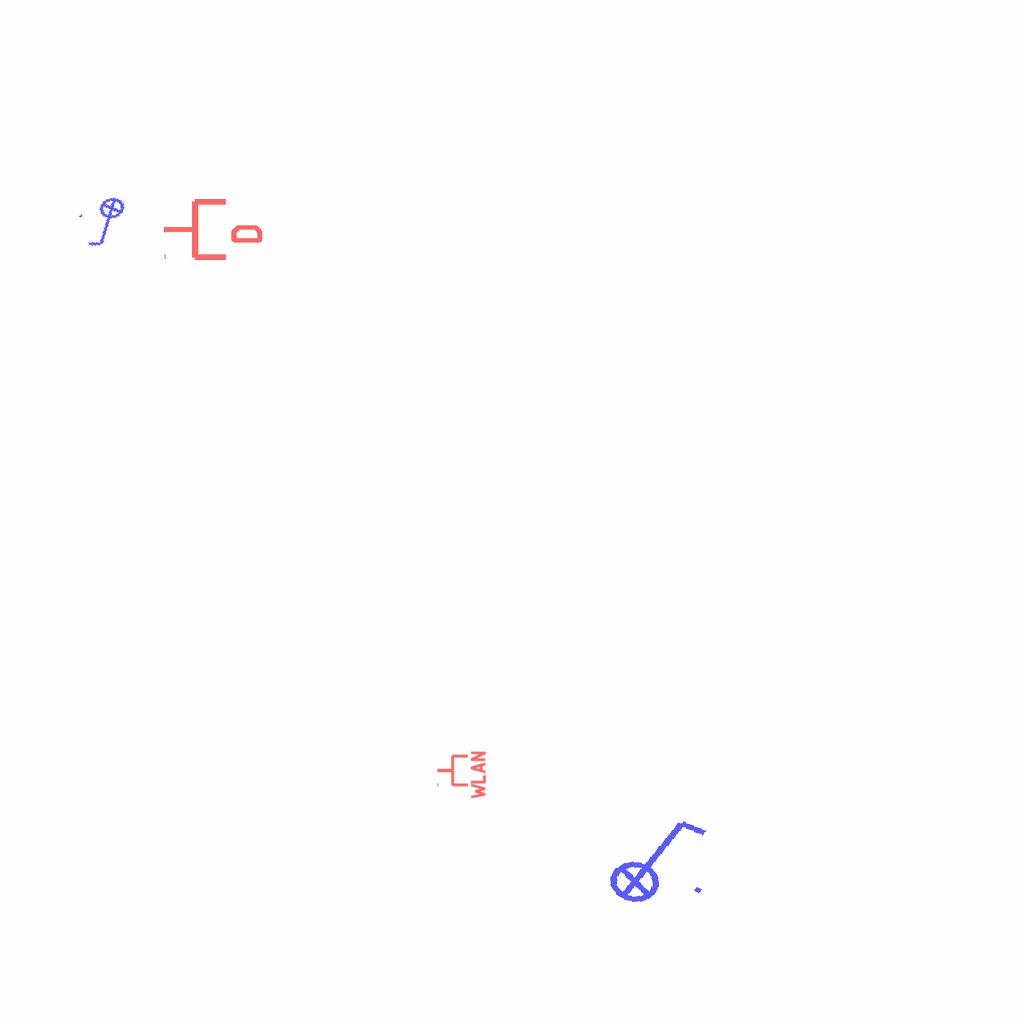Ausschalter_beleuchtet: (593, 803, 717, 913), (73, 192, 141, 254)
Datenanschluss_einfach: (162, 195, 262, 264)
WLAN: (435, 749, 487, 801)
